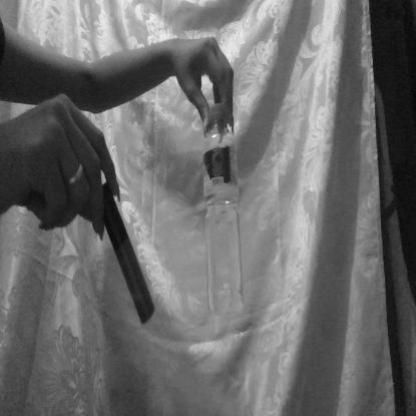Plastic Bottle: (188, 97, 265, 351)
